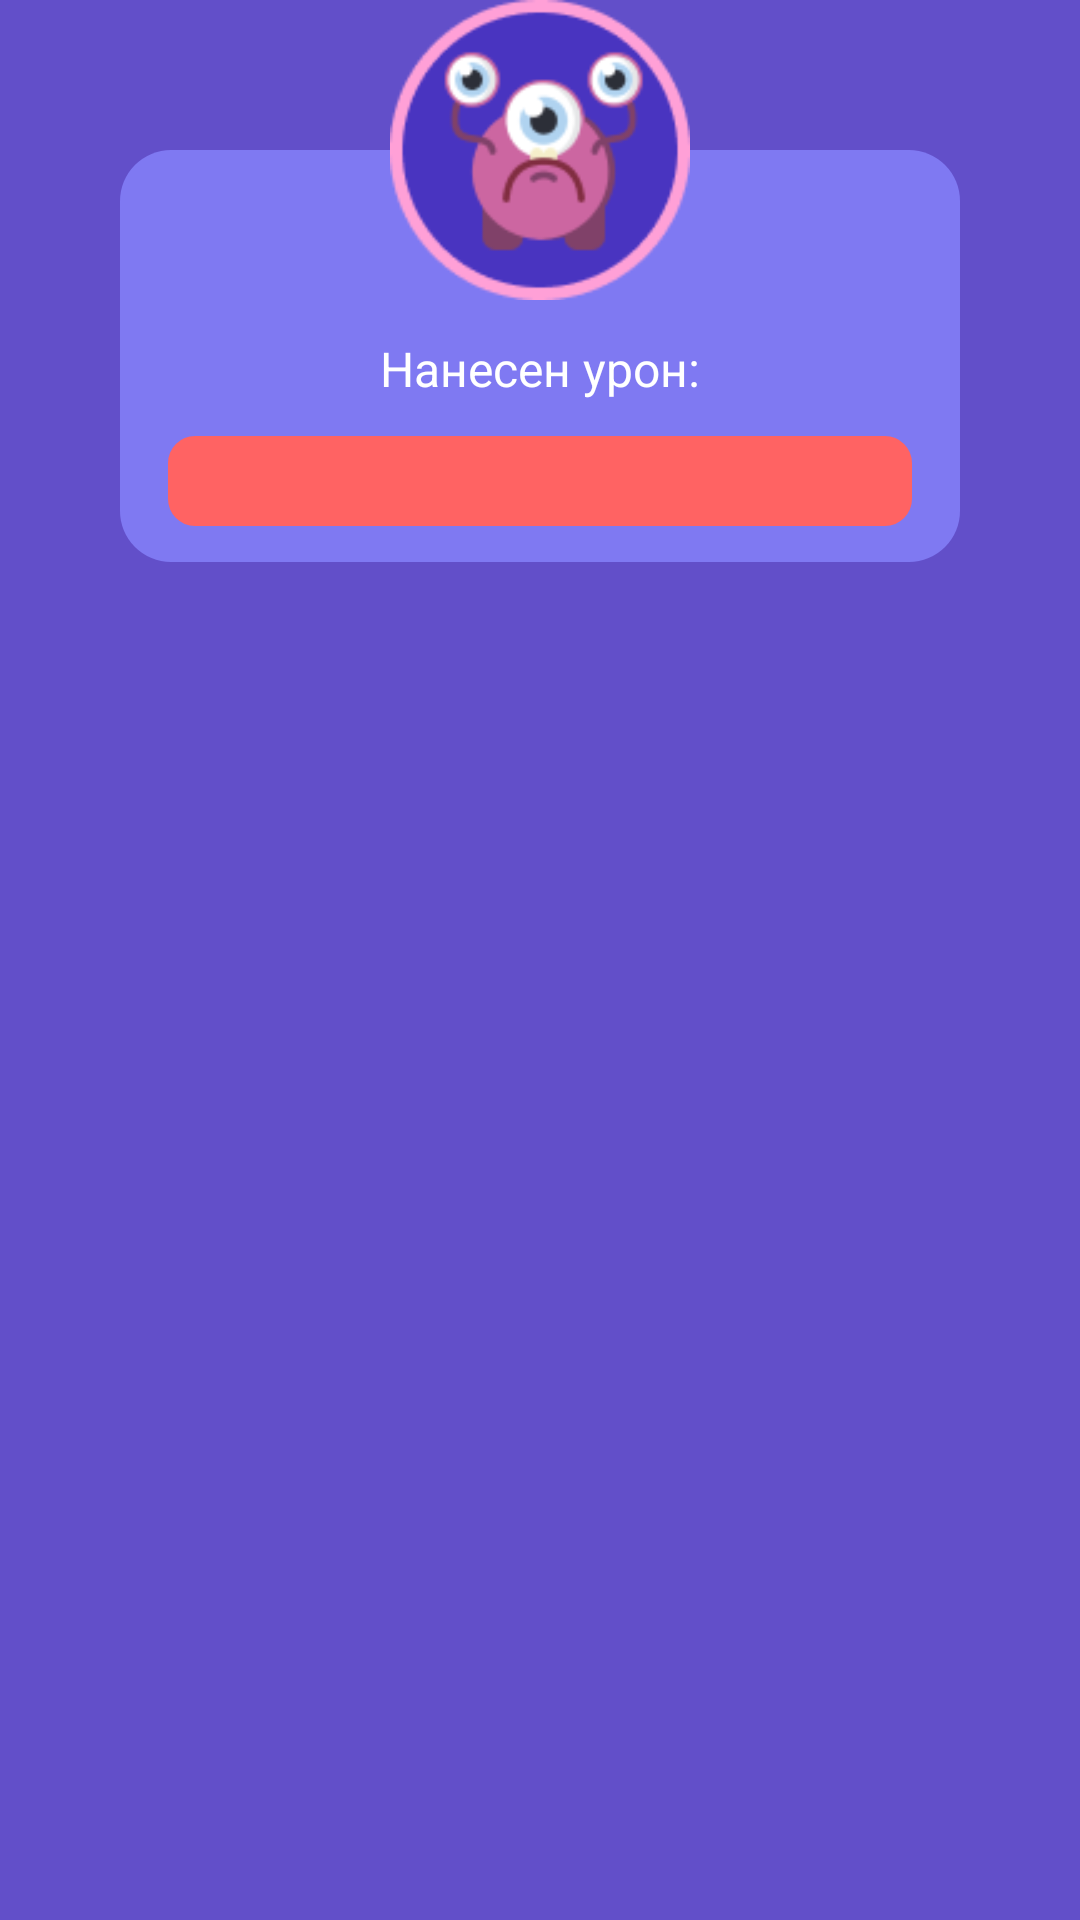

Icon click points for this 1080 × 1920 phone screenshot, format (x,y):
pic enemy: (540,150)
